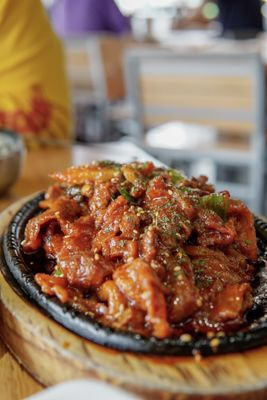curry: (0, 133, 267, 398)
pasta: (121, 46, 266, 213)
sandwich: (8, 159, 265, 357)
